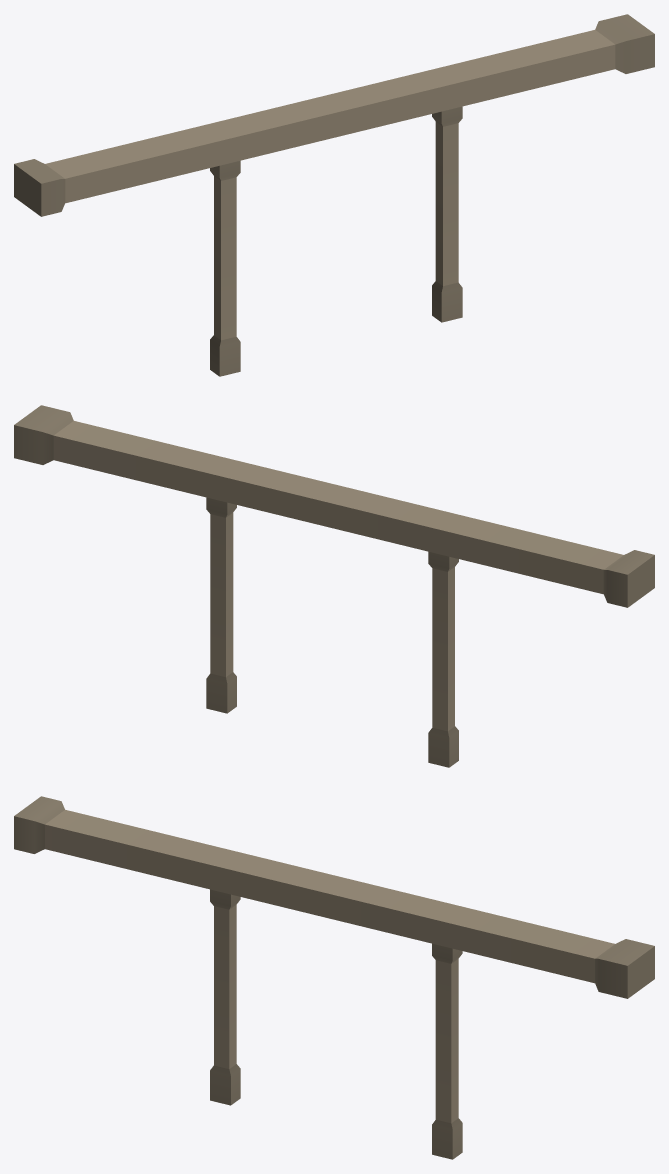
The model's file is kingdom_SM_Bld_Walkway_Stone_Railing_01.gltf.
The picture shows the model from 3 angles, top to bottom: view 1: azimuth 30°, elevation 25°; view 2: azimuth 150°, elevation 25°; view 3: azimuth 330°, elevation 25°; orthographic projection.
Parts seen in each view (by area): view 1: SM_Bld_Walkway_Stone_Railing_01; view 2: SM_Bld_Walkway_Stone_Railing_01; view 3: SM_Bld_Walkway_Stone_Railing_01.
Boxes of the visible parts, left/top/right/bottom form: SM_Bld_Walkway_Stone_Railing_01: left=14, top=14, right=654, bottom=376; SM_Bld_Walkway_Stone_Railing_01: left=14, top=405, right=654, bottom=767; SM_Bld_Walkway_Stone_Railing_01: left=14, top=796, right=654, bottom=1159.
Size of the model in its own units: 2.5 by 0.9539 by 0.1921.
1 material, 1 textured.
